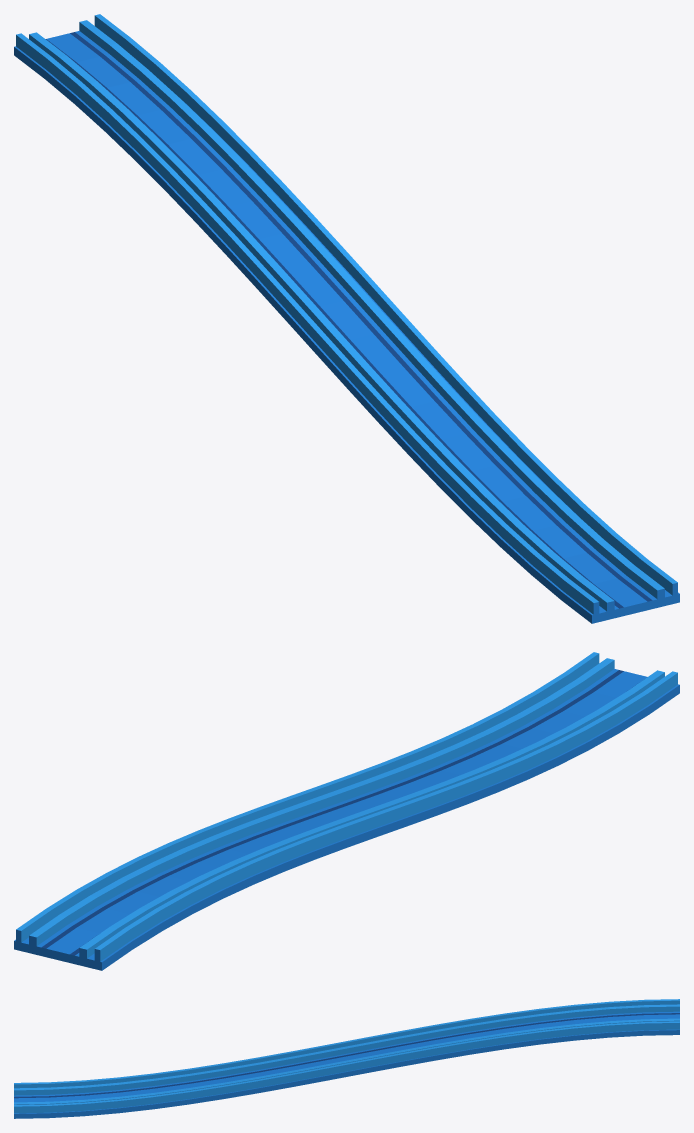
Rendered from Track_Slope_Up_Original.fbx.
The picture shows the model from 3 angles, top to bottom: view 1: azimuth 30°, elevation 25°; view 2: azimuth 150°, elevation 25°; view 3: azimuth 270°, elevation 25°; orthographic projection. The views are drawn at different scales.
Parts seen in each view (by area): view 1: Molded blue rail; view 2: Molded blue rail; view 3: Molded blue rail.
Part boxes in pixels (bbox=[...]): Molded blue rail: bbox=[14, 14, 679, 623]; Molded blue rail: bbox=[14, 652, 679, 970]; Molded blue rail: bbox=[14, 999, 679, 1118].
Bounding box in the file's own units: 106 × 190 × 1200.
